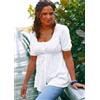maglia: (30, 24, 71, 92)
